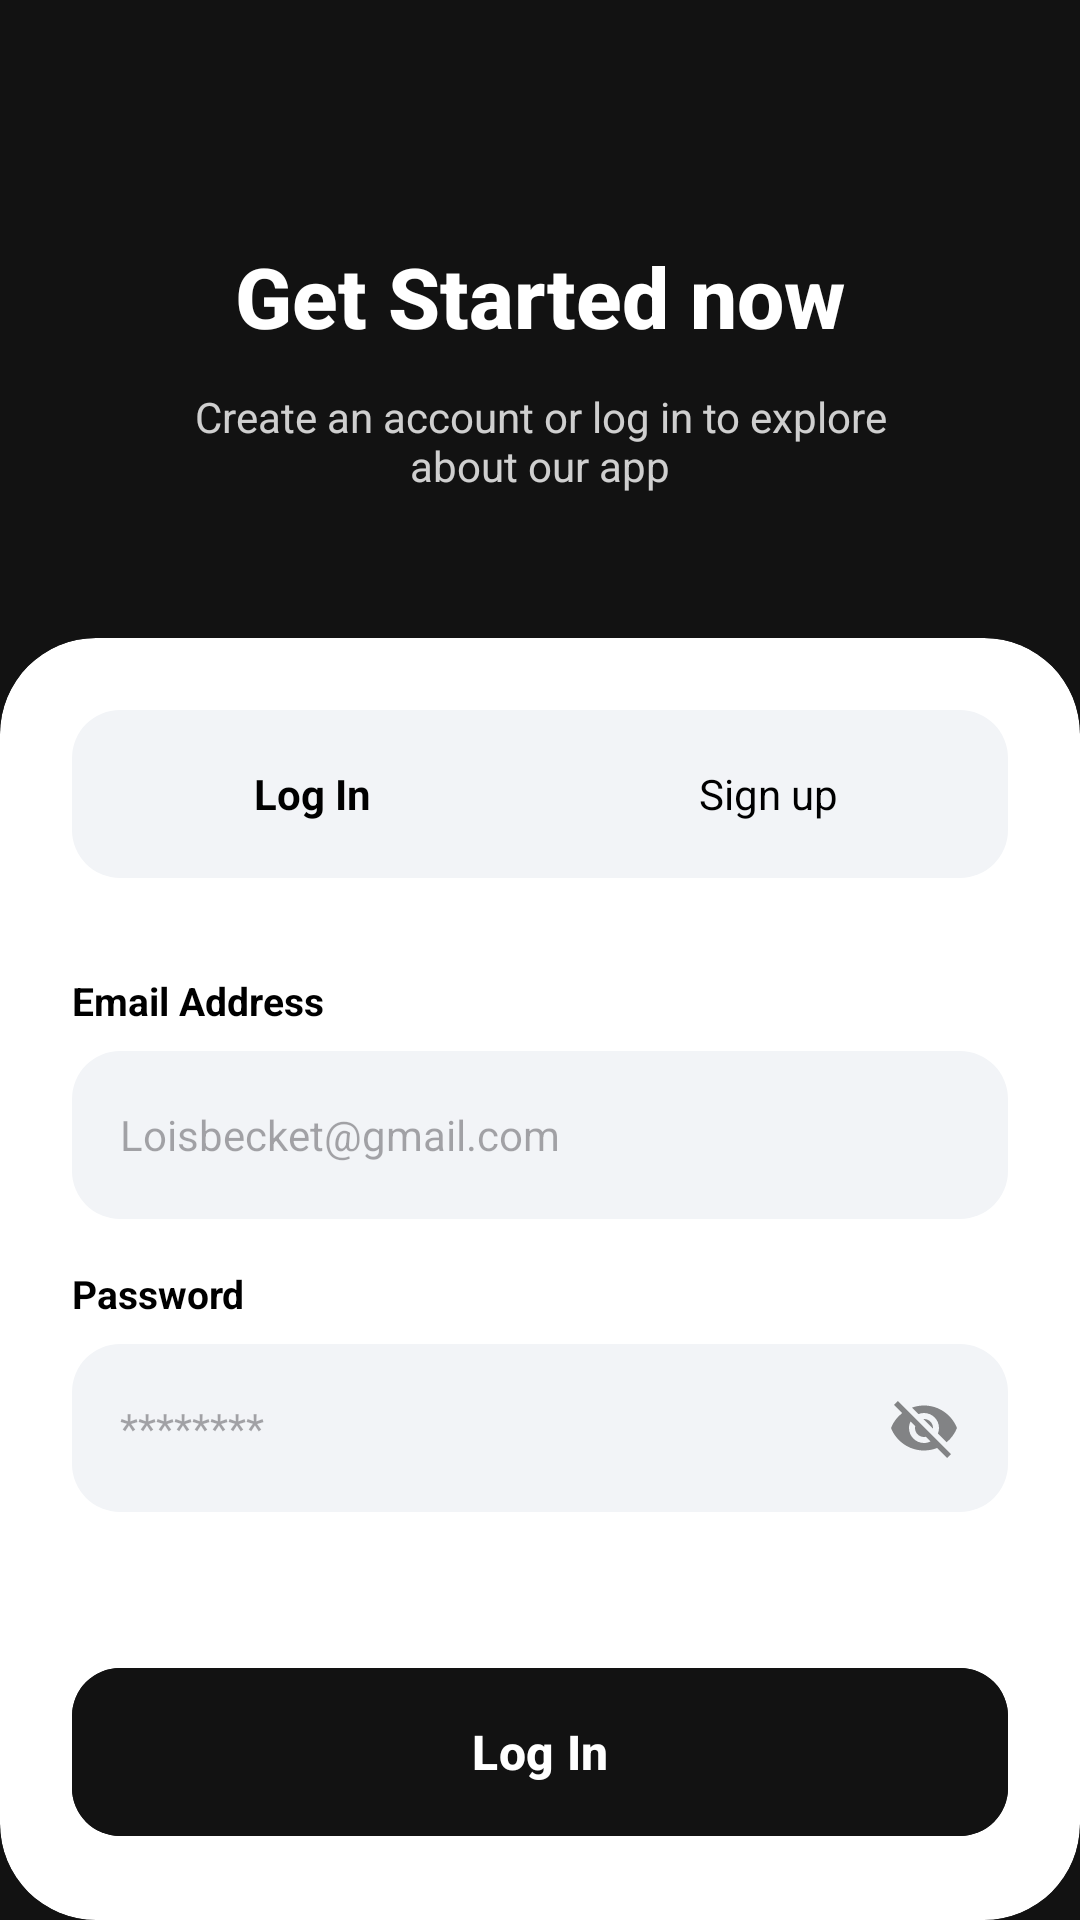

Screen size 1080x1920. Icon name, then its center in pixels as (x=x, y=y):
visibility off: (x=924, y=1429)
